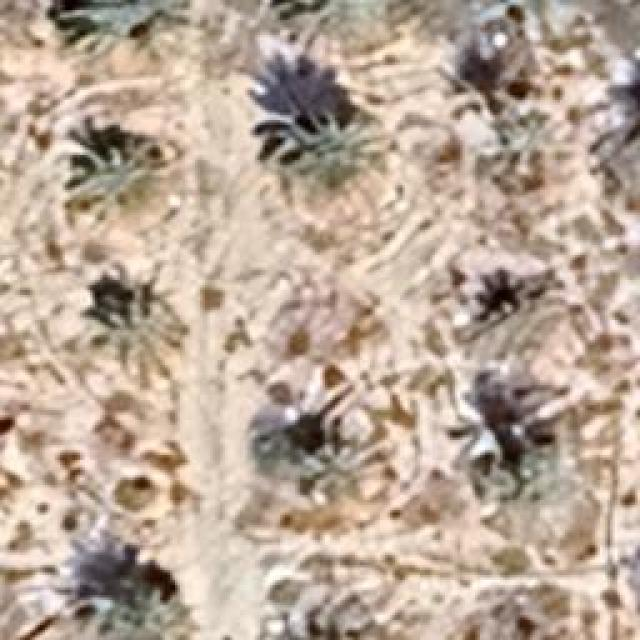PalmTree: (106, 28, 327, 618), (476, 416, 582, 519), (71, 125, 164, 225), (428, 51, 530, 139), (476, 112, 572, 191), (274, 124, 388, 182), (274, 0, 396, 54), (471, 256, 549, 339), (94, 275, 168, 360), (297, 440, 395, 500), (95, 584, 200, 638), (456, 0, 581, 45), (584, 120, 638, 215)
